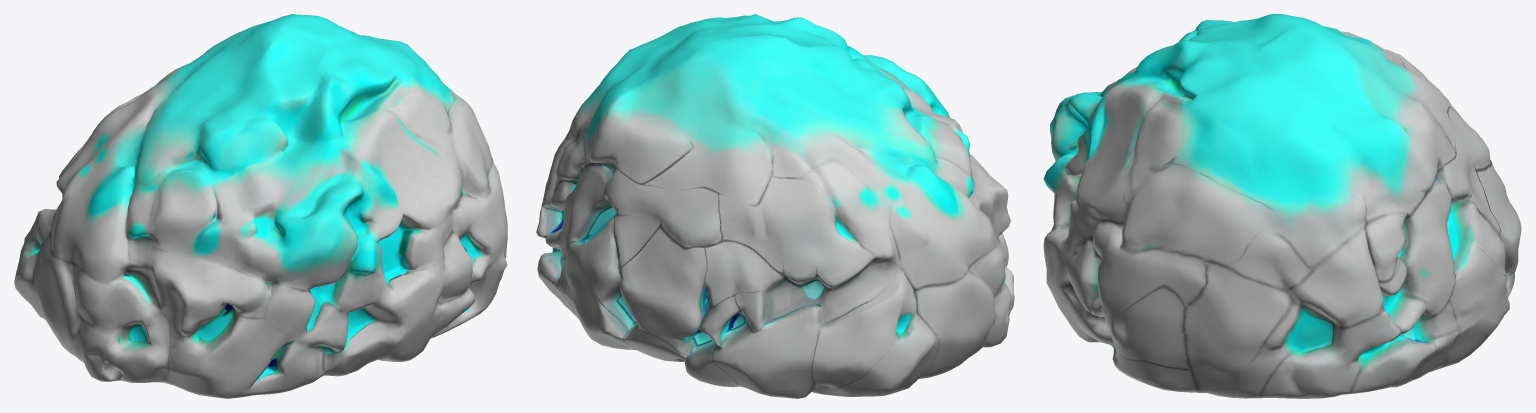
Rendered from prop_ore_vein_v1.glb.
3 renders of one model, left to right at view 1: azimuth 30°, elevation 25°; view 2: azimuth 150°, elevation 25°; view 3: azimuth 270°, elevation 25°, orthographic. The views are drawn at different scales.
Bounding box in the file's own units: 1.91 × 1.24 × 1.73.
Materials: 1 (1 with a texture image).
